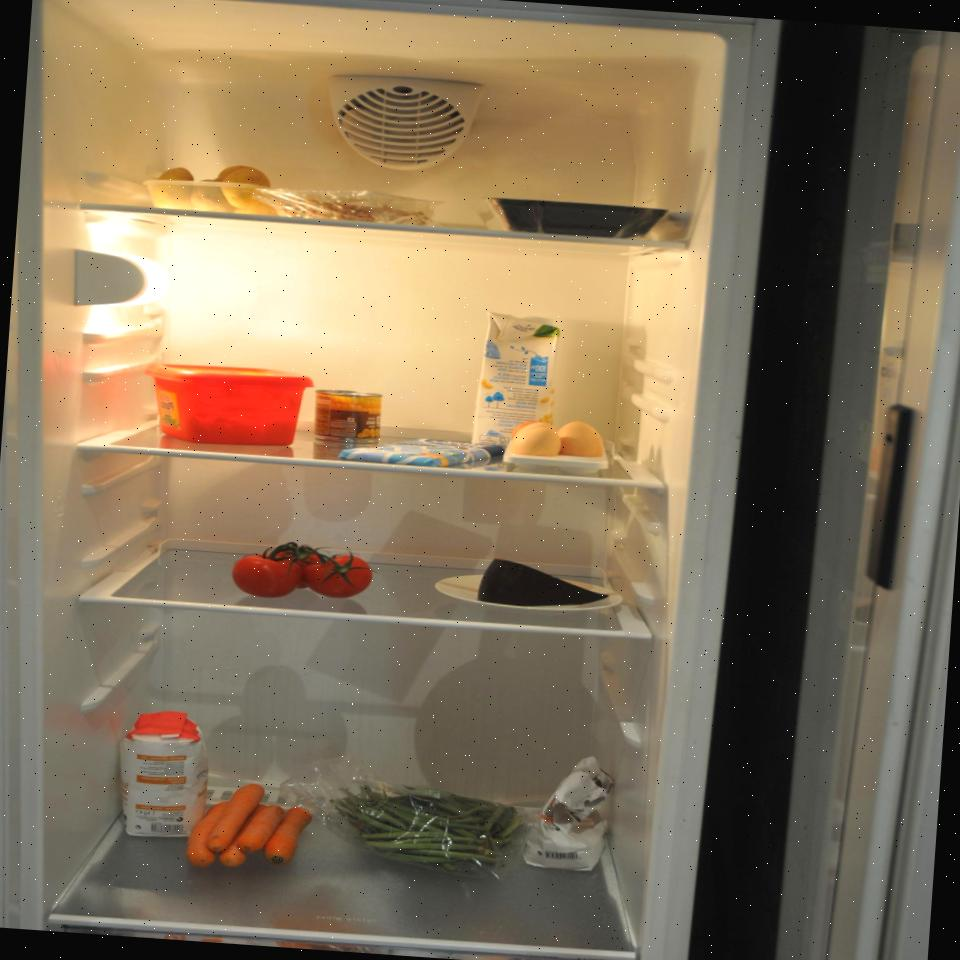Huevos: (509, 414, 614, 469)
Leche: (478, 311, 565, 460)
Mantequilla: (145, 356, 317, 452)
Queso: (471, 554, 612, 616)
Tomate: (230, 534, 376, 605)
Zanahoria: (191, 775, 317, 880)
